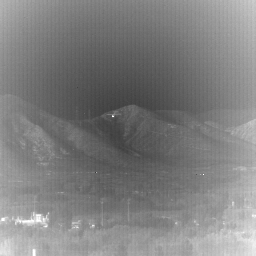aircraft: (112, 116, 114, 118)
